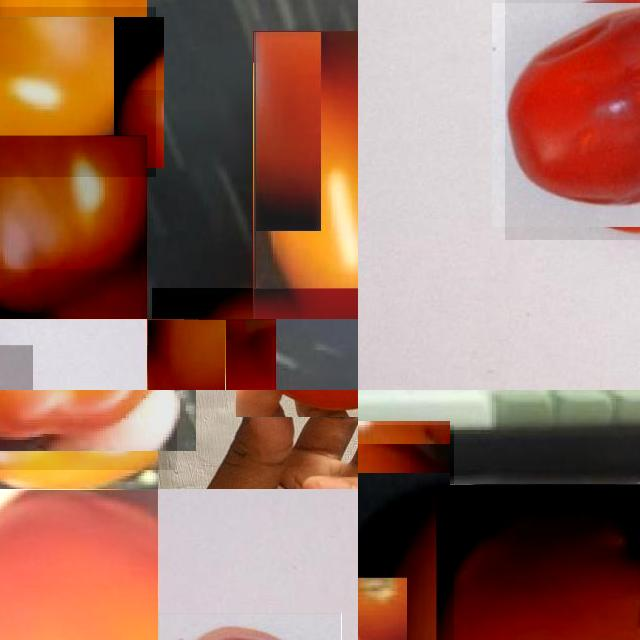0: (0, 489, 158, 640), (158, 613, 341, 640)
Fresh Tomato: (436, 484, 640, 640), (253, 31, 358, 319), (0, 135, 147, 319), (0, 7, 155, 176), (358, 424, 454, 640), (147, 319, 276, 390)
Rotten Tomato: (505, 0, 640, 239)
